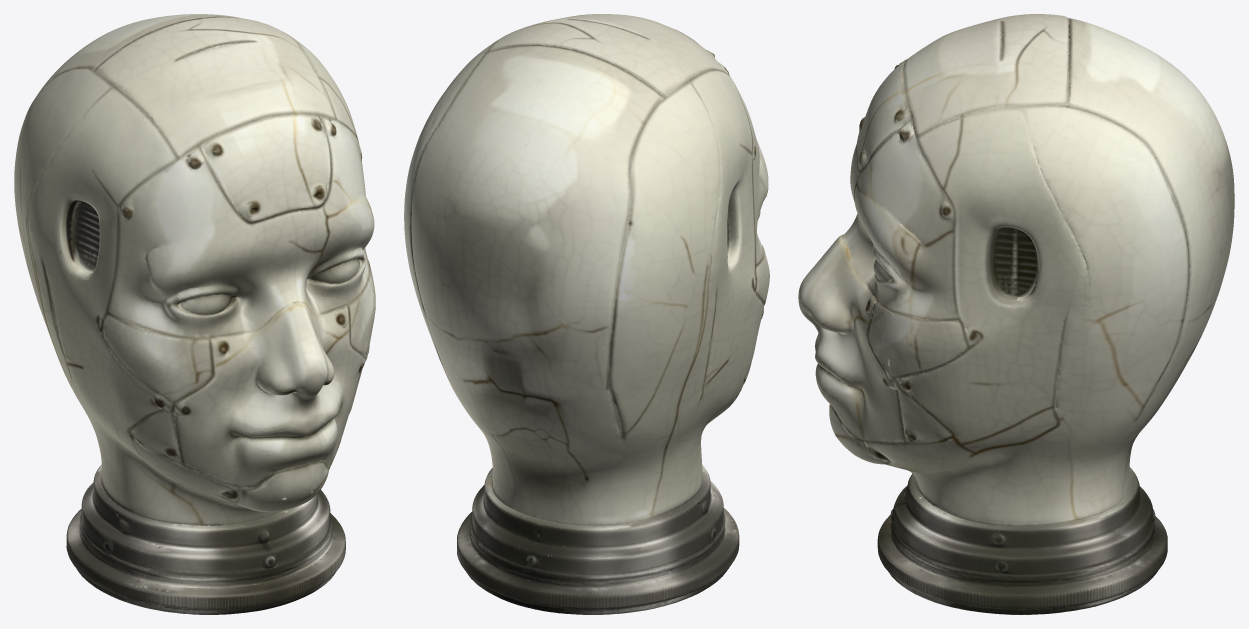
The model's file is mask.glb.
3 views of the same model, side by side, from view 1: azimuth 30°, elevation 25°; view 2: azimuth 150°, elevation 25°; view 3: azimuth 270°, elevation 25° (orthographic).
Visible parts, largest first — view 1: geometry_0; view 2: geometry_0; view 3: geometry_0.
Boxes of the visible parts, x1,y1,x2,y2 form: geometry_0: [14, 14, 375, 614]; geometry_0: [404, 14, 769, 614]; geometry_0: [798, 14, 1234, 614].
Size of the model in its own units: 0.2215 by 0.38 by 0.2851.
Materials: 1 (1 with a texture image).
